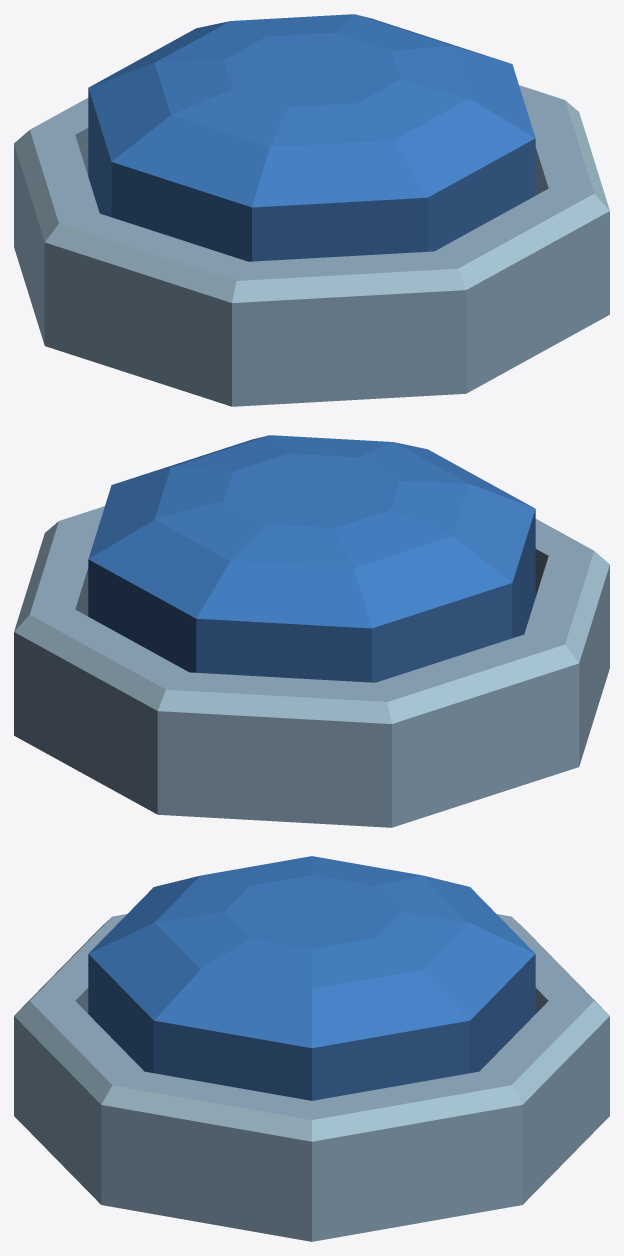
Rendered from bluebutton.glb.
The picture shows the model from 3 angles, top to bottom: view 1: azimuth 30°, elevation 25°; view 2: azimuth 150°, elevation 25°; view 3: azimuth 270°, elevation 25°; orthographic projection. The views are drawn at different scales.
Visible parts, largest first — view 1: Base_Button, Button; view 2: Base_Button, Button; view 3: Base_Button, Button.
Boxes of the visible parts, x1,y1,x2,y2 form: Base_Button: [14, 85, 609, 406]; Button: [88, 14, 535, 261]; Base_Button: [14, 506, 609, 827]; Button: [88, 435, 535, 682]; Base_Button: [14, 914, 609, 1241]; Button: [88, 856, 535, 1100].
Size of the model in its own units: 0.5393 by 0.2035 by 0.5393.
1 material, 1 textured.
